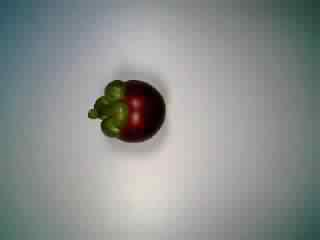mangosteen: (86, 75, 167, 146)
